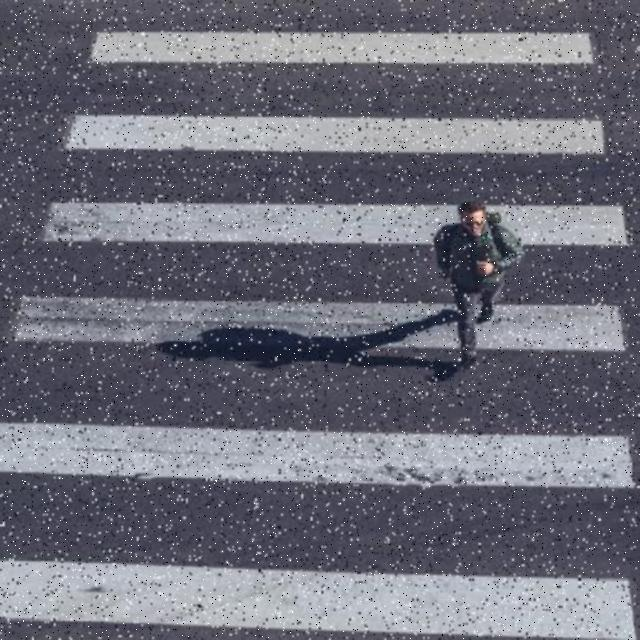Pedestrian crosswalk: (0, 0, 638, 640)
